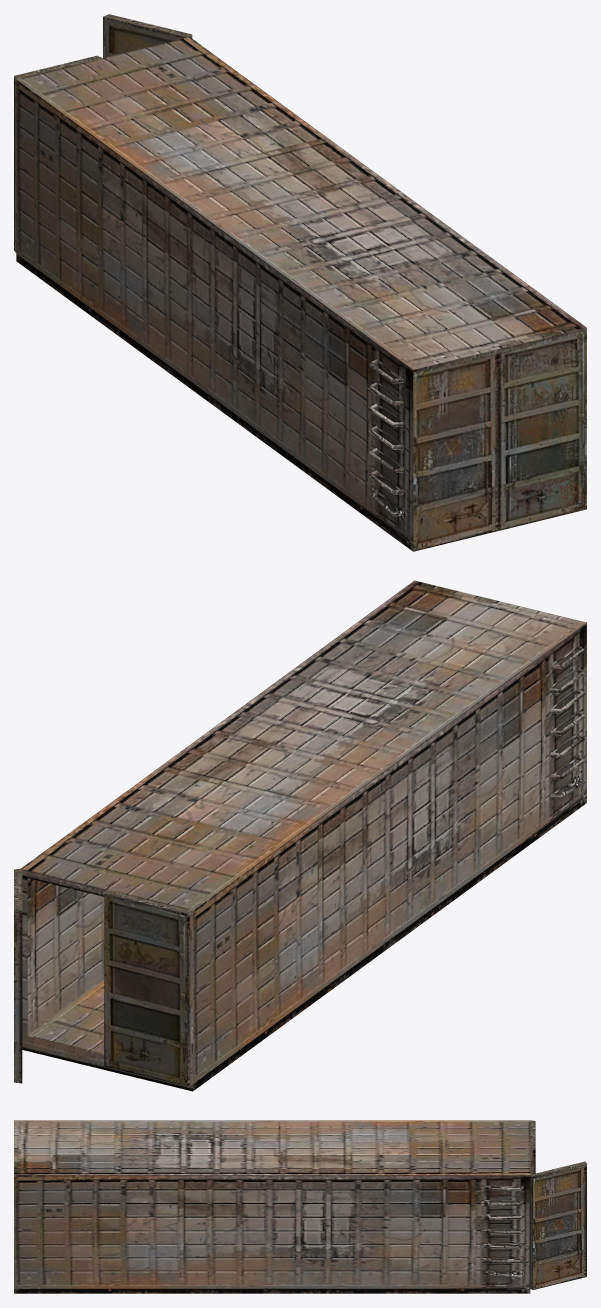
File: cargo05.glb
The picture shows the model from 3 angles, top to bottom: view 1: azimuth 30°, elevation 25°; view 2: azimuth 150°, elevation 25°; view 3: azimuth 270°, elevation 25°; orthographic projection. The views are drawn at different scales.
Parts seen in each view (by area): view 1: _cargo05; view 2: _cargo05; view 3: _cargo05.
Boxes of the visible parts, x1=… form: _cargo05: x1=14, y1=14, x2=586, y2=551; _cargo05: x1=14, y1=580, x2=586, y2=1091; _cargo05: x1=14, y1=1120, x2=586, y2=1293.
Size of the model in its own units: 3.36 by 3 by 13.18.
Materials: 1 (1 with a texture image).
